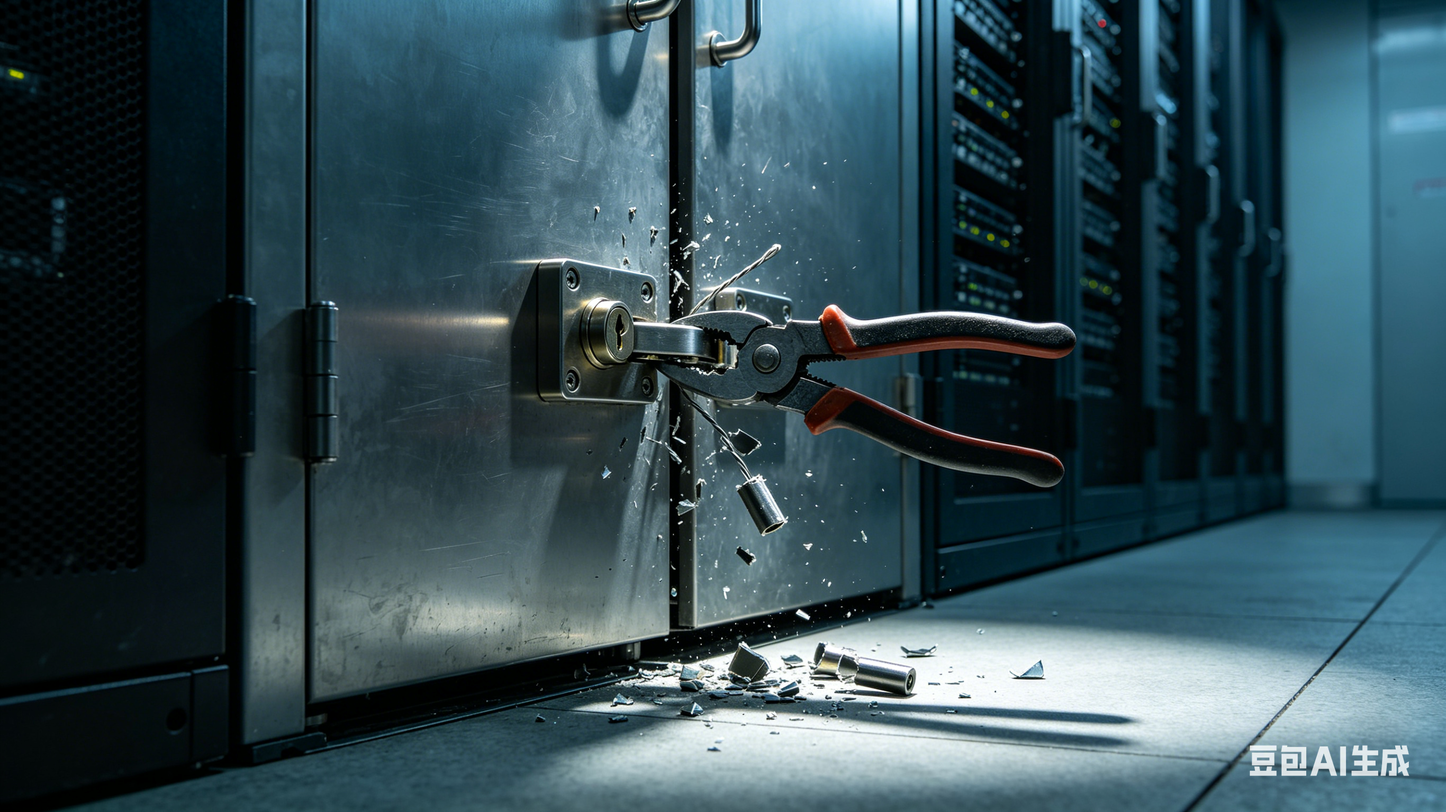BadLock: (585, 266, 819, 420)
